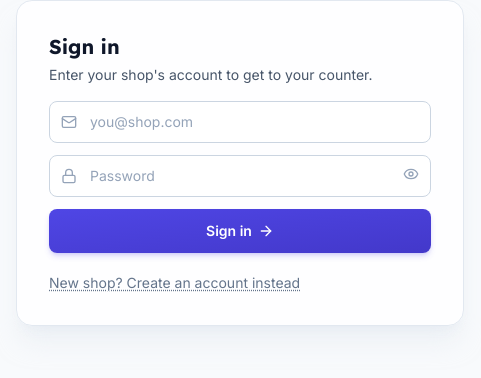
Test: AuthPanel › shows an error when sign-in rejects
Step 1. Type "owner@shop.com" into the field named "email" → (240, 122), box left=49, top=101, right=431, bottom=143
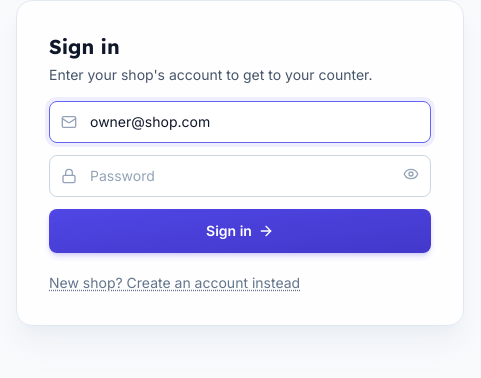
Step 2. Type "wrong" into the password field labelled "Password" → (240, 176), box left=49, top=155, right=431, bottom=197
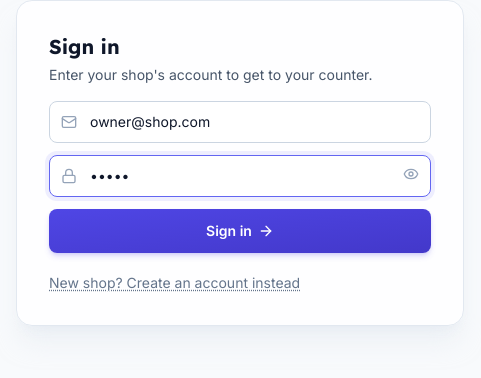
Step 3. Click the button "Sign in" → (240, 231), box left=49, top=209, right=431, bottom=253
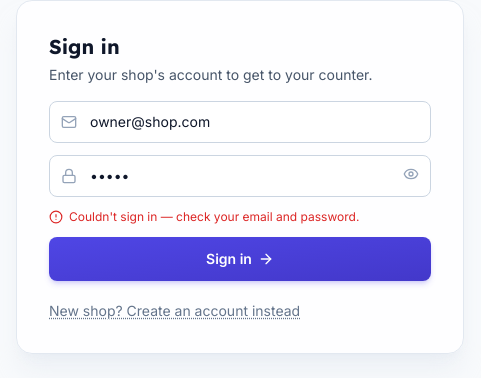
Result: the text "Couldn't sign in — check your email and password." is shown at left=49, top=209, right=359, bottom=224
